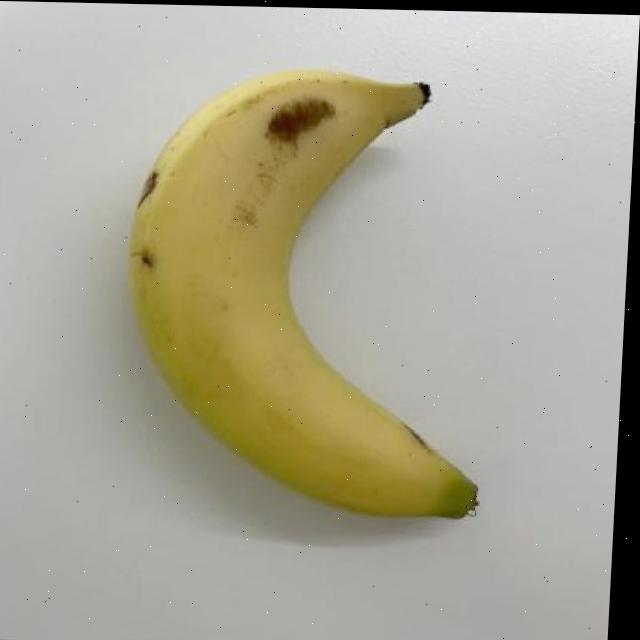banana: (105, 56, 520, 536)
